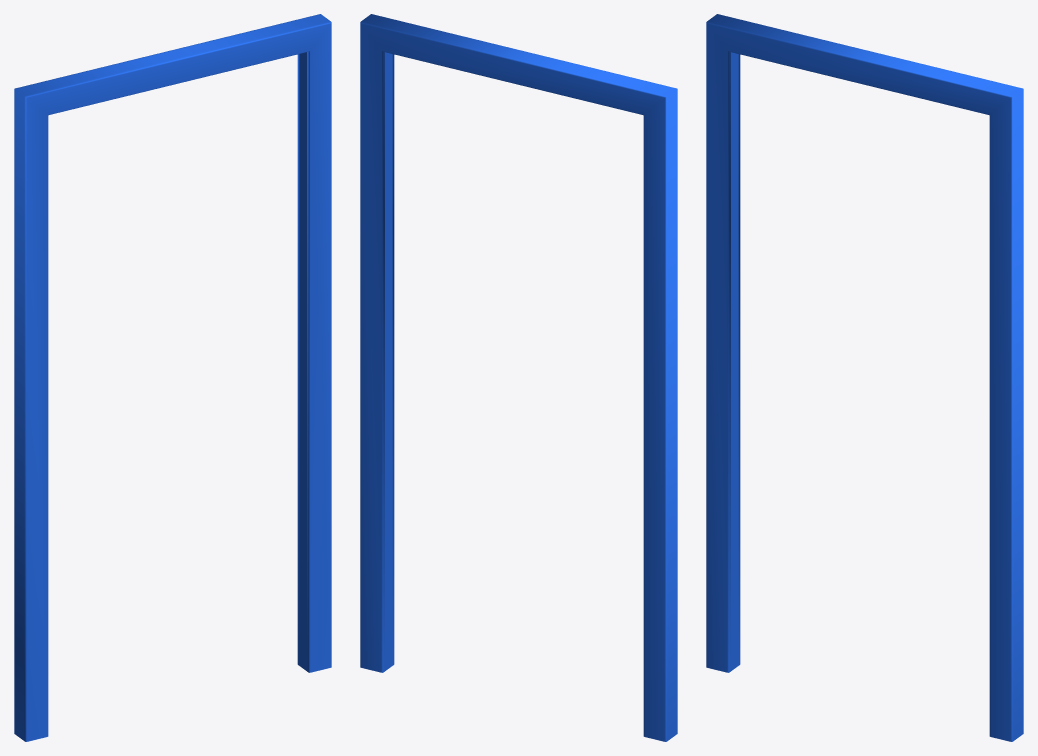
Rendered from DoorFrame.FBX.
The picture shows the model from 3 angles, left to right: view 1: azimuth 30°, elevation 25°; view 2: azimuth 150°, elevation 25°; view 3: azimuth 330°, elevation 25°; orthographic projection.
Parts seen in each view (by area): view 1: Box001; view 2: Box001; view 3: Box001.
Boxes of the visible parts, x1=… form: Box001: x1=14, y1=14, x2=331, y2=741; Box001: x1=360, y1=14, x2=677, y2=741; Box001: x1=706, y1=14, x2=1023, y2=741.
Bounding box in the file's own units: 39.86 × 80.17 × 2.72.
